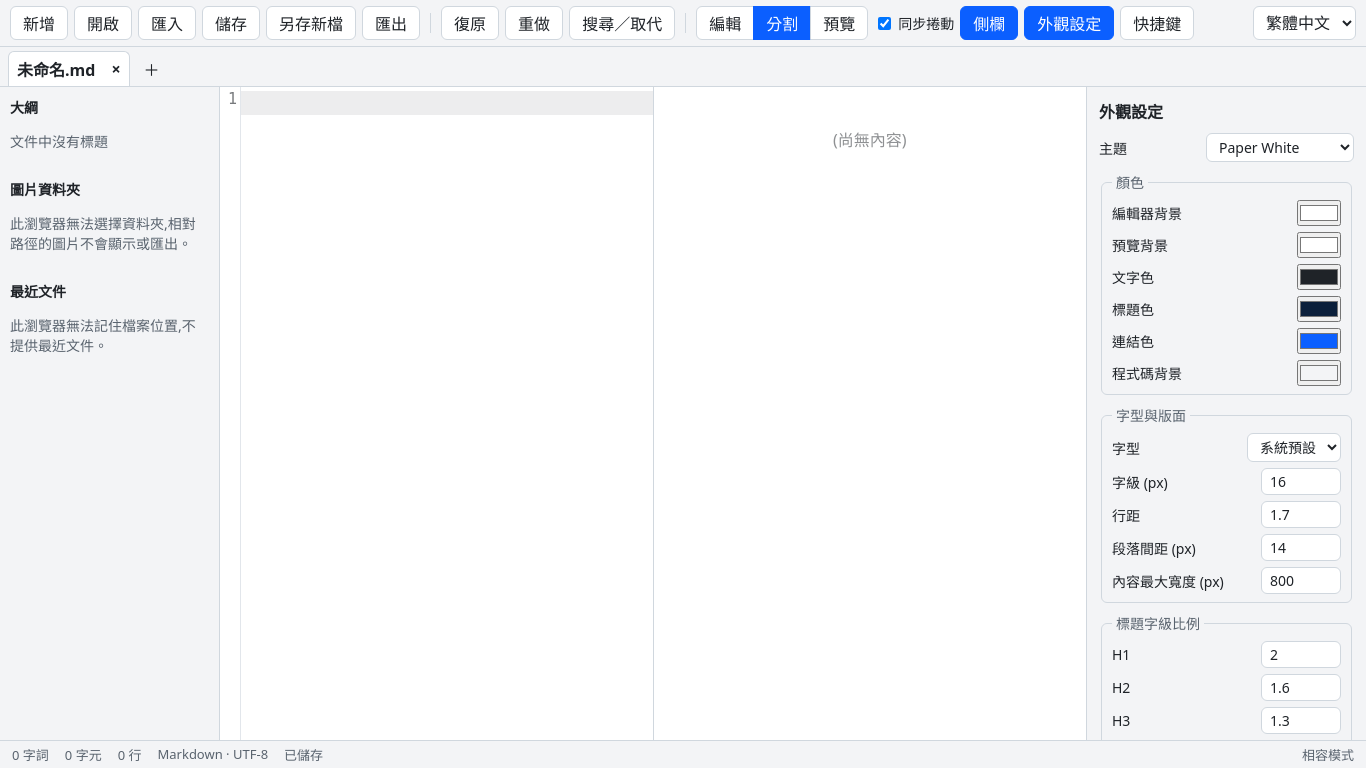
it: multiple documents › opens files in separate tabs and switches between them
What coordinates should you click on to do the following:
click the button "開啟"
I would click on:
 (103, 23)
Its box is top-left (74, 6), bottom-right (132, 40).
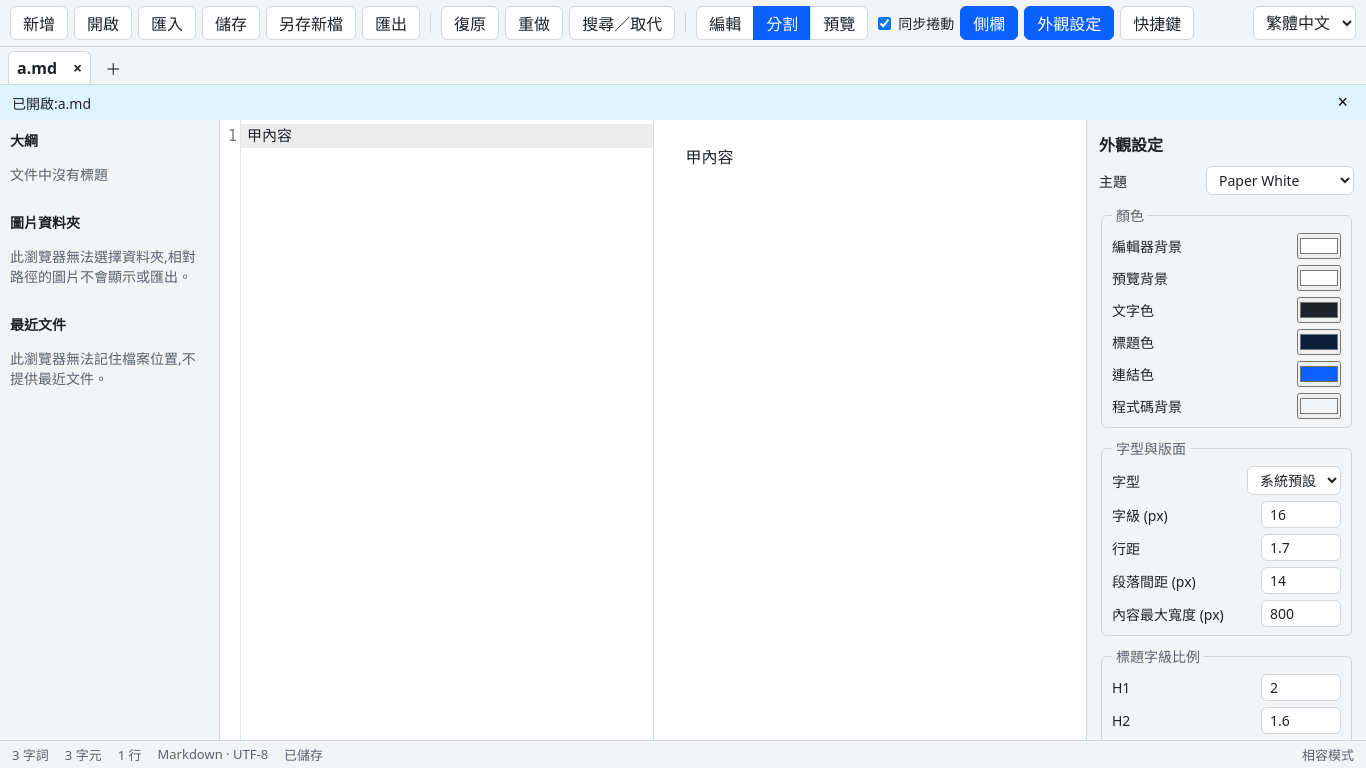
What coordinates should you click on to do the following:
click the button "開啟"
I would click on:
 (103, 23)
Its box is top-left (74, 6), bottom-right (132, 40).
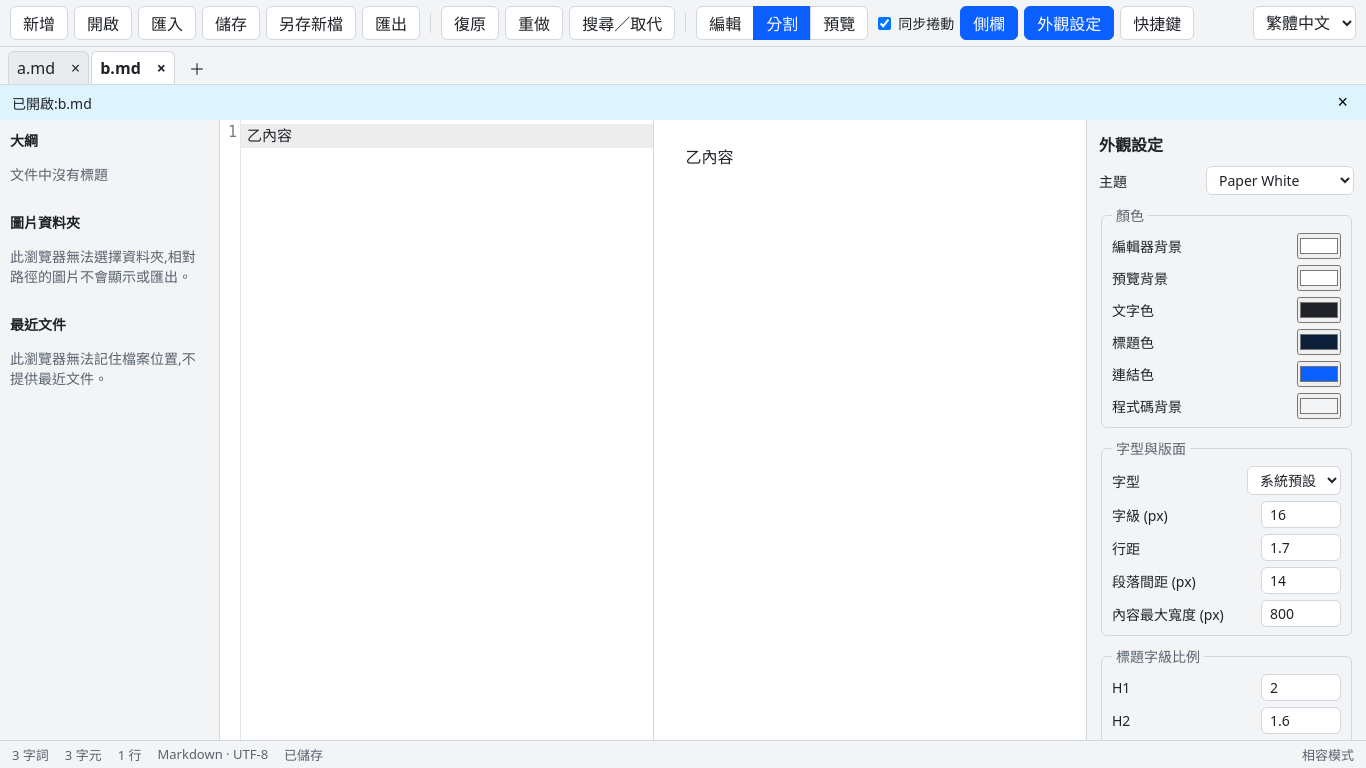
expect the number of buttons named "關閉 " is 2: met, box top-left (63, 52), bottom-right (88, 84); top-left (149, 52), bottom-right (174, 84)
expect the text box labelled "乙內容" is shown: met, box top-left (241, 124), bottom-right (652, 148)
What coordinates should you click on to do the following:
click the button titled "a.md"
I would click on:
 (36, 68)
Its box is top-left (9, 52), bottom-right (63, 84).
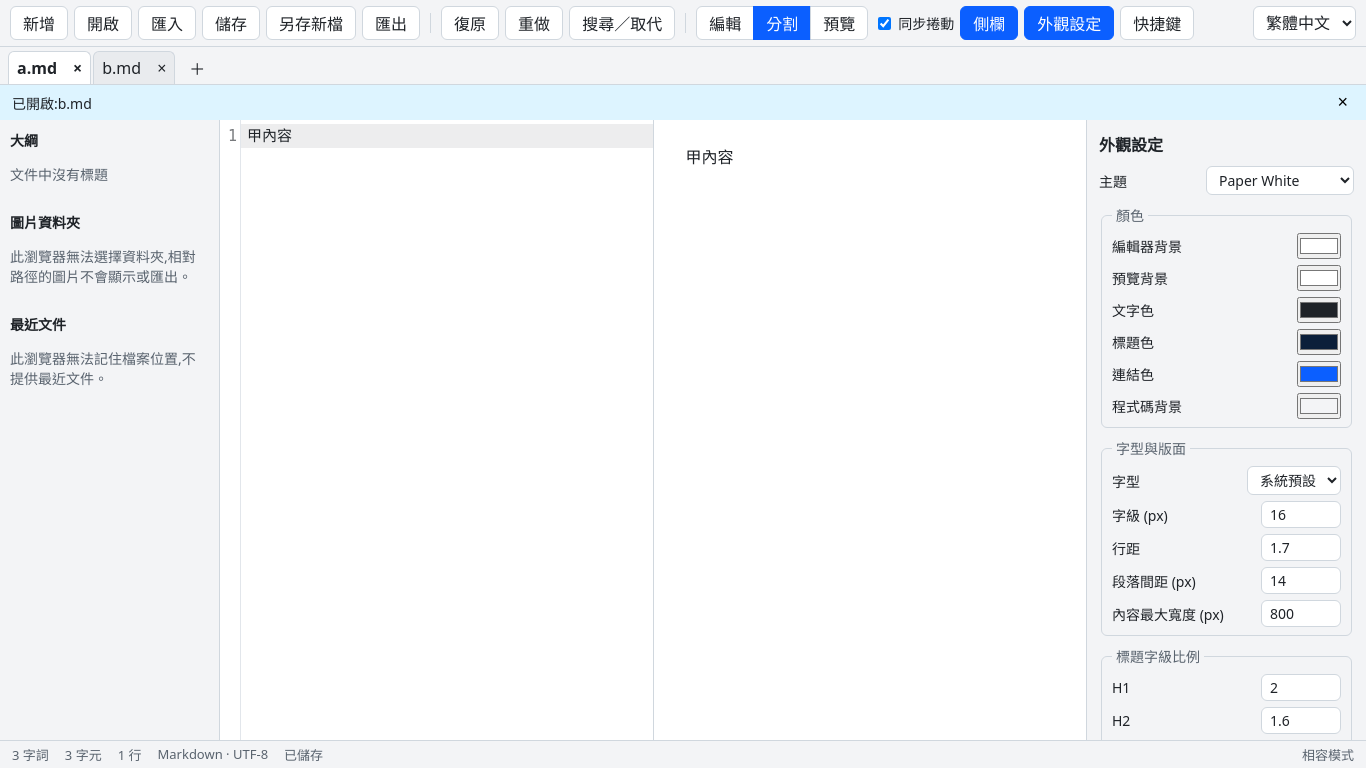
expect the text box labelled "甲內容" is shown: met, box top-left (241, 124), bottom-right (652, 148)
